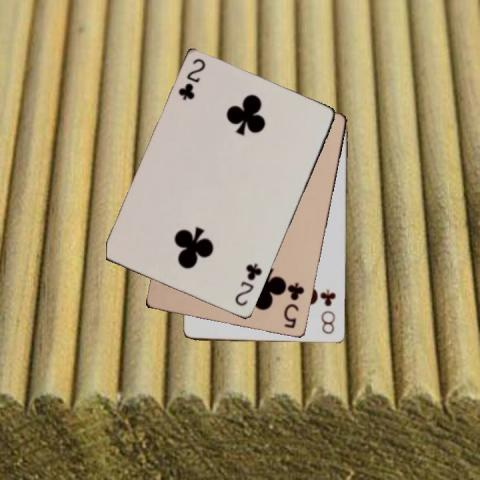2c: (232, 260, 264, 308), (176, 55, 208, 102)
5c: (281, 279, 306, 330)
8c: (319, 286, 337, 336)
